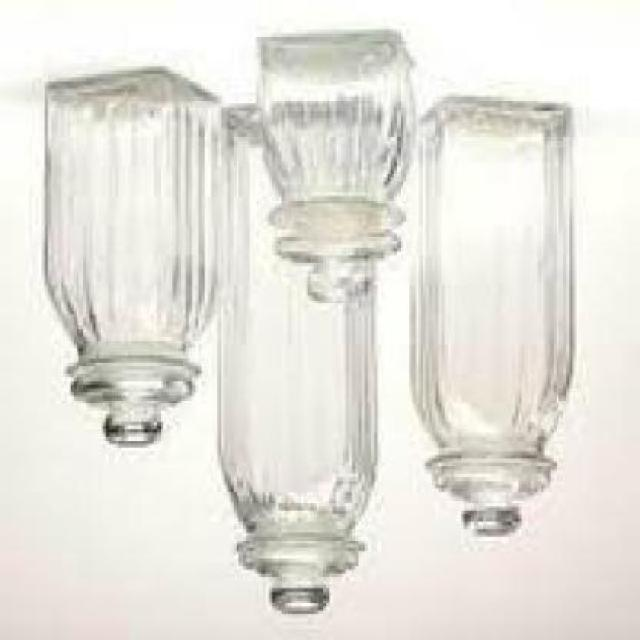GLASS: (220, 111, 378, 618), (410, 103, 579, 540), (51, 70, 224, 448), (262, 37, 420, 303)
